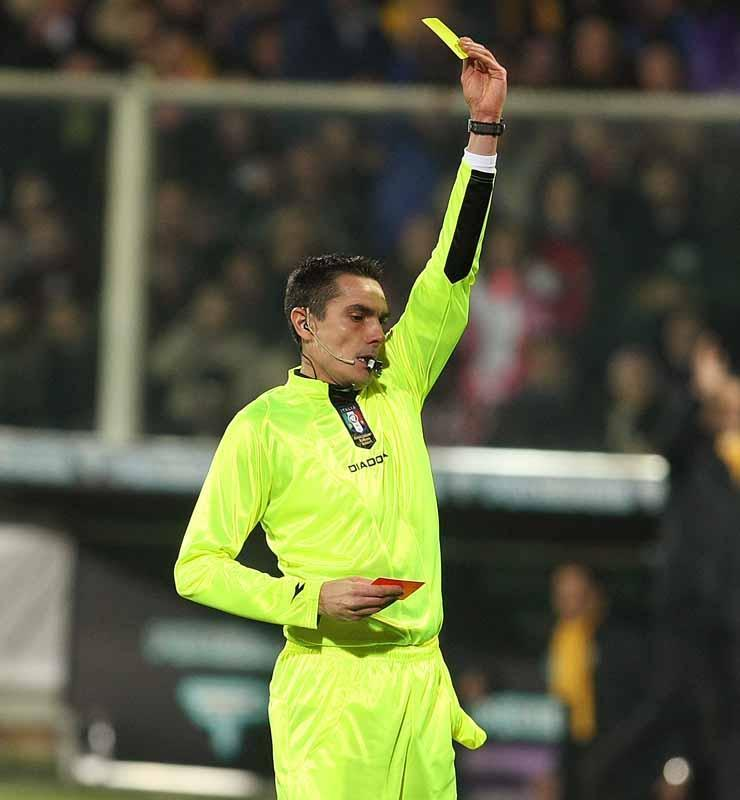yellow_card: (410, 8, 527, 136)
